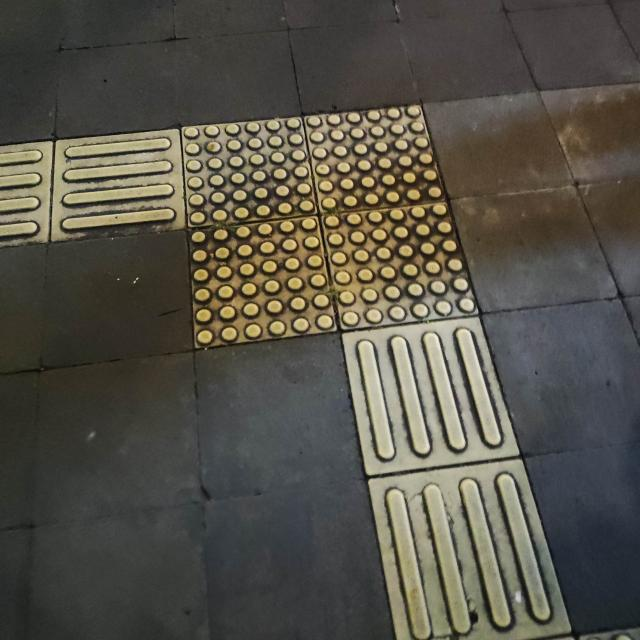kiri: (0, 85, 583, 461)
